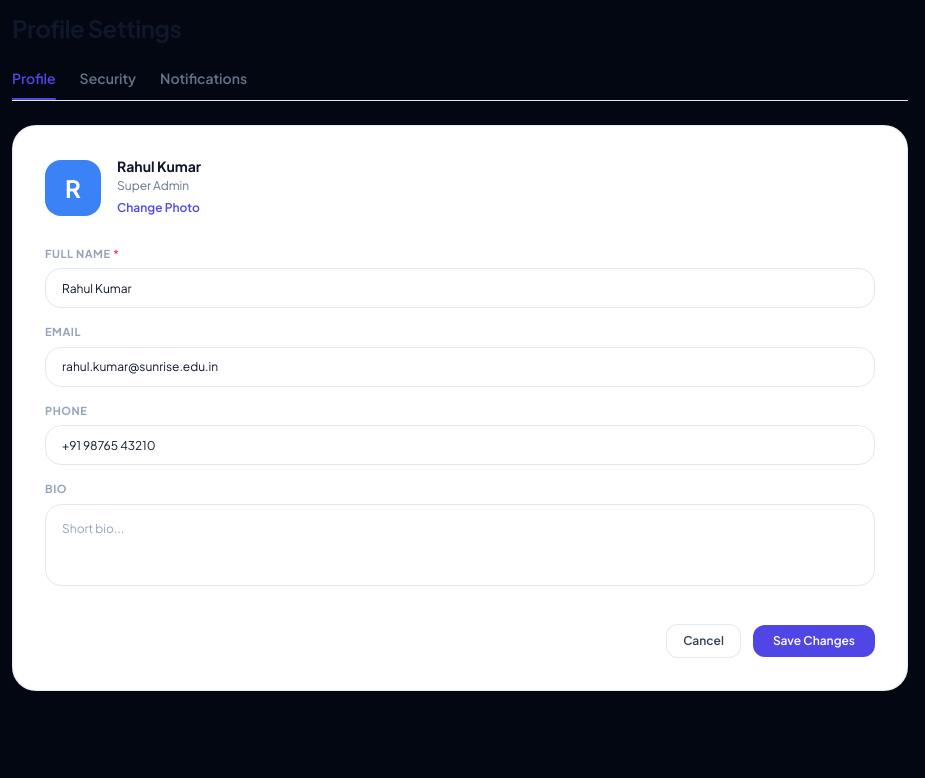
Test: ProfileSettingsPage › renders Profile tab fields and handles form submission
Expected: the field showing "Rahul Kumar" is shown, [45, 268, 875, 308]
Expected: the field showing "rahul.kumar@sunrise.edu.in" is shown, [45, 346, 875, 386]
Step 1. Click the button "Save Changes" → (814, 640), box [753, 624, 875, 656]
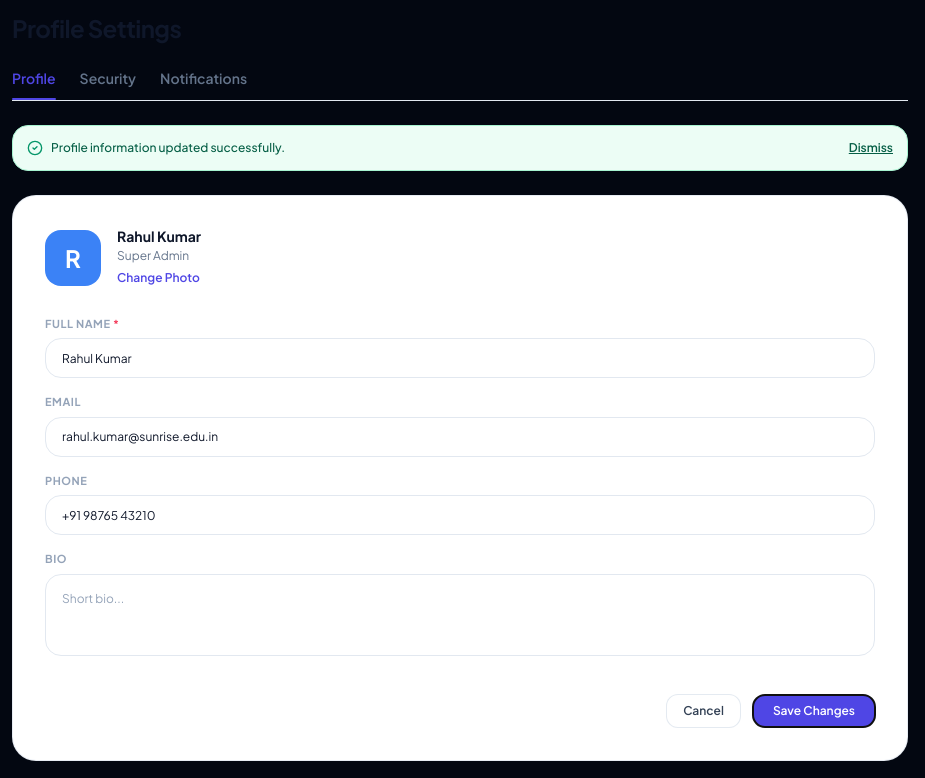
Result: the text "Profile information updated successfully." is shown at [51, 140, 285, 156]
